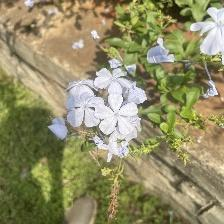chitrak: (94, 94, 142, 145), (65, 92, 106, 131), (194, 7, 224, 60), (95, 65, 134, 97)
